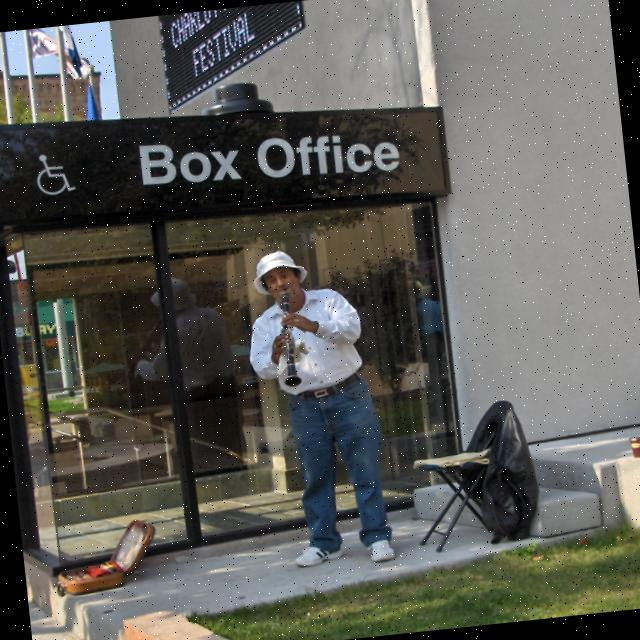clarinet: (274, 286, 305, 389)
